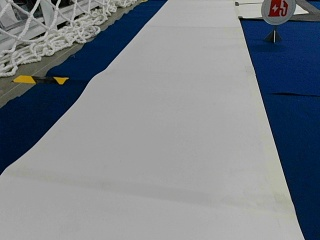battery: (260, 0, 297, 25)
